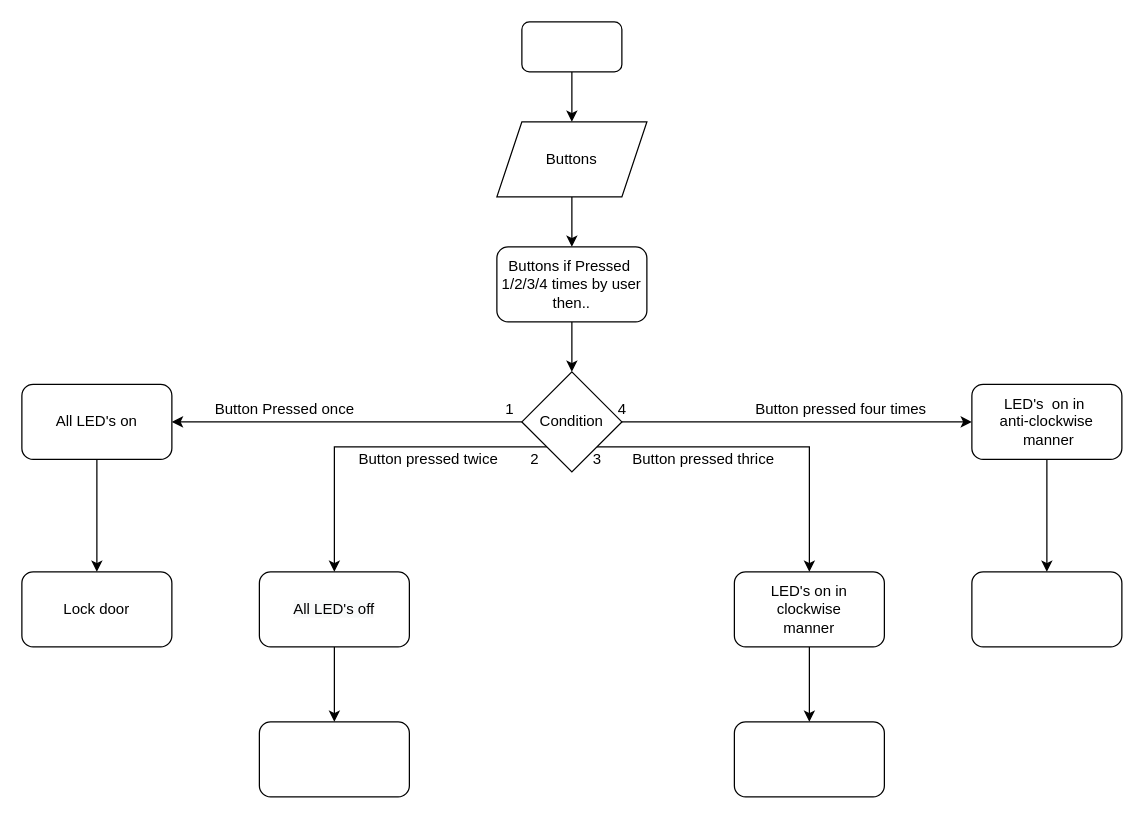
Some shapes in this 1144 by 819 pixel diagram are drawn without their labels. Here are the shapes that lost their labels. From the top down, the centre of each, then its label:
At pixel 571 46: "Start".
At pixel 1046 609: "Approach light glow".
At pixel 333 759: "Unlock door".
At pixel 808 759: "Alarm Activated/ Deactivated".
